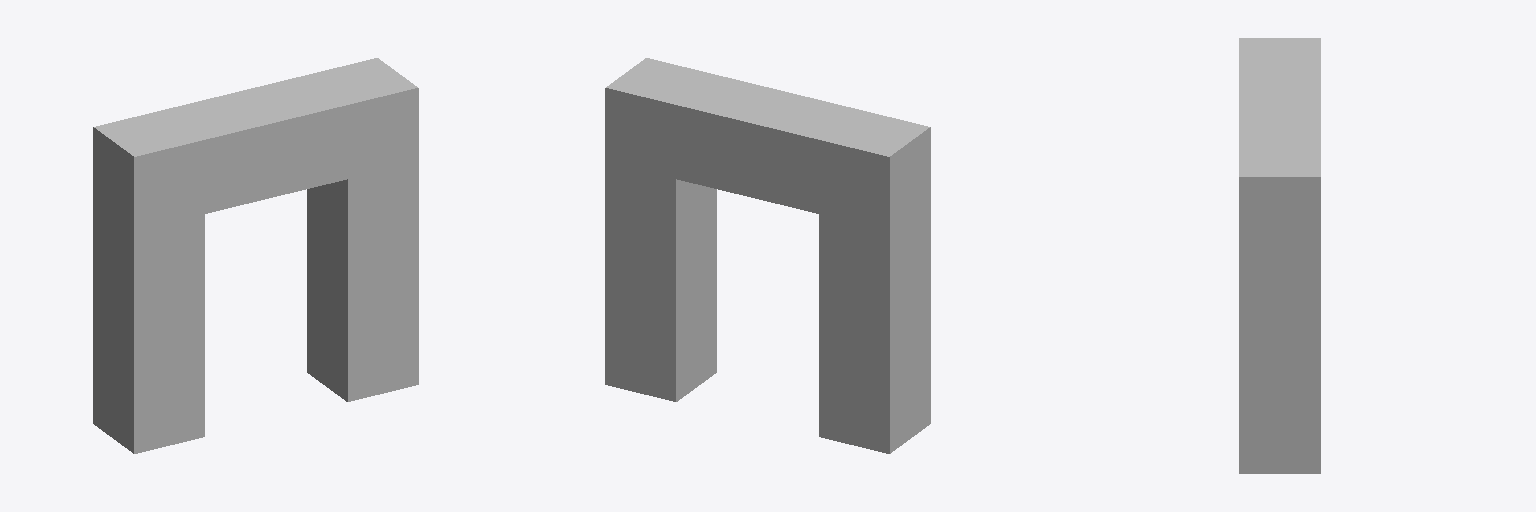
The model's file is gates1.obj.
3 views of the same model, side by side, from view 1: azimuth 30°, elevation 25°; view 2: azimuth 150°, elevation 25°; view 3: azimuth 270°, elevation 25° (orthographic).
Parts seen in each view (by area): view 1: Cube; view 2: Cube; view 3: Cube.
Boxes of the visible parts, box(x1,y1,x2,y2) form: Cube: box(93, 58, 418, 453); Cube: box(605, 58, 930, 453); Cube: box(1239, 38, 1320, 473).
Bounding box in the file's own units: 8 × 8 × 2.